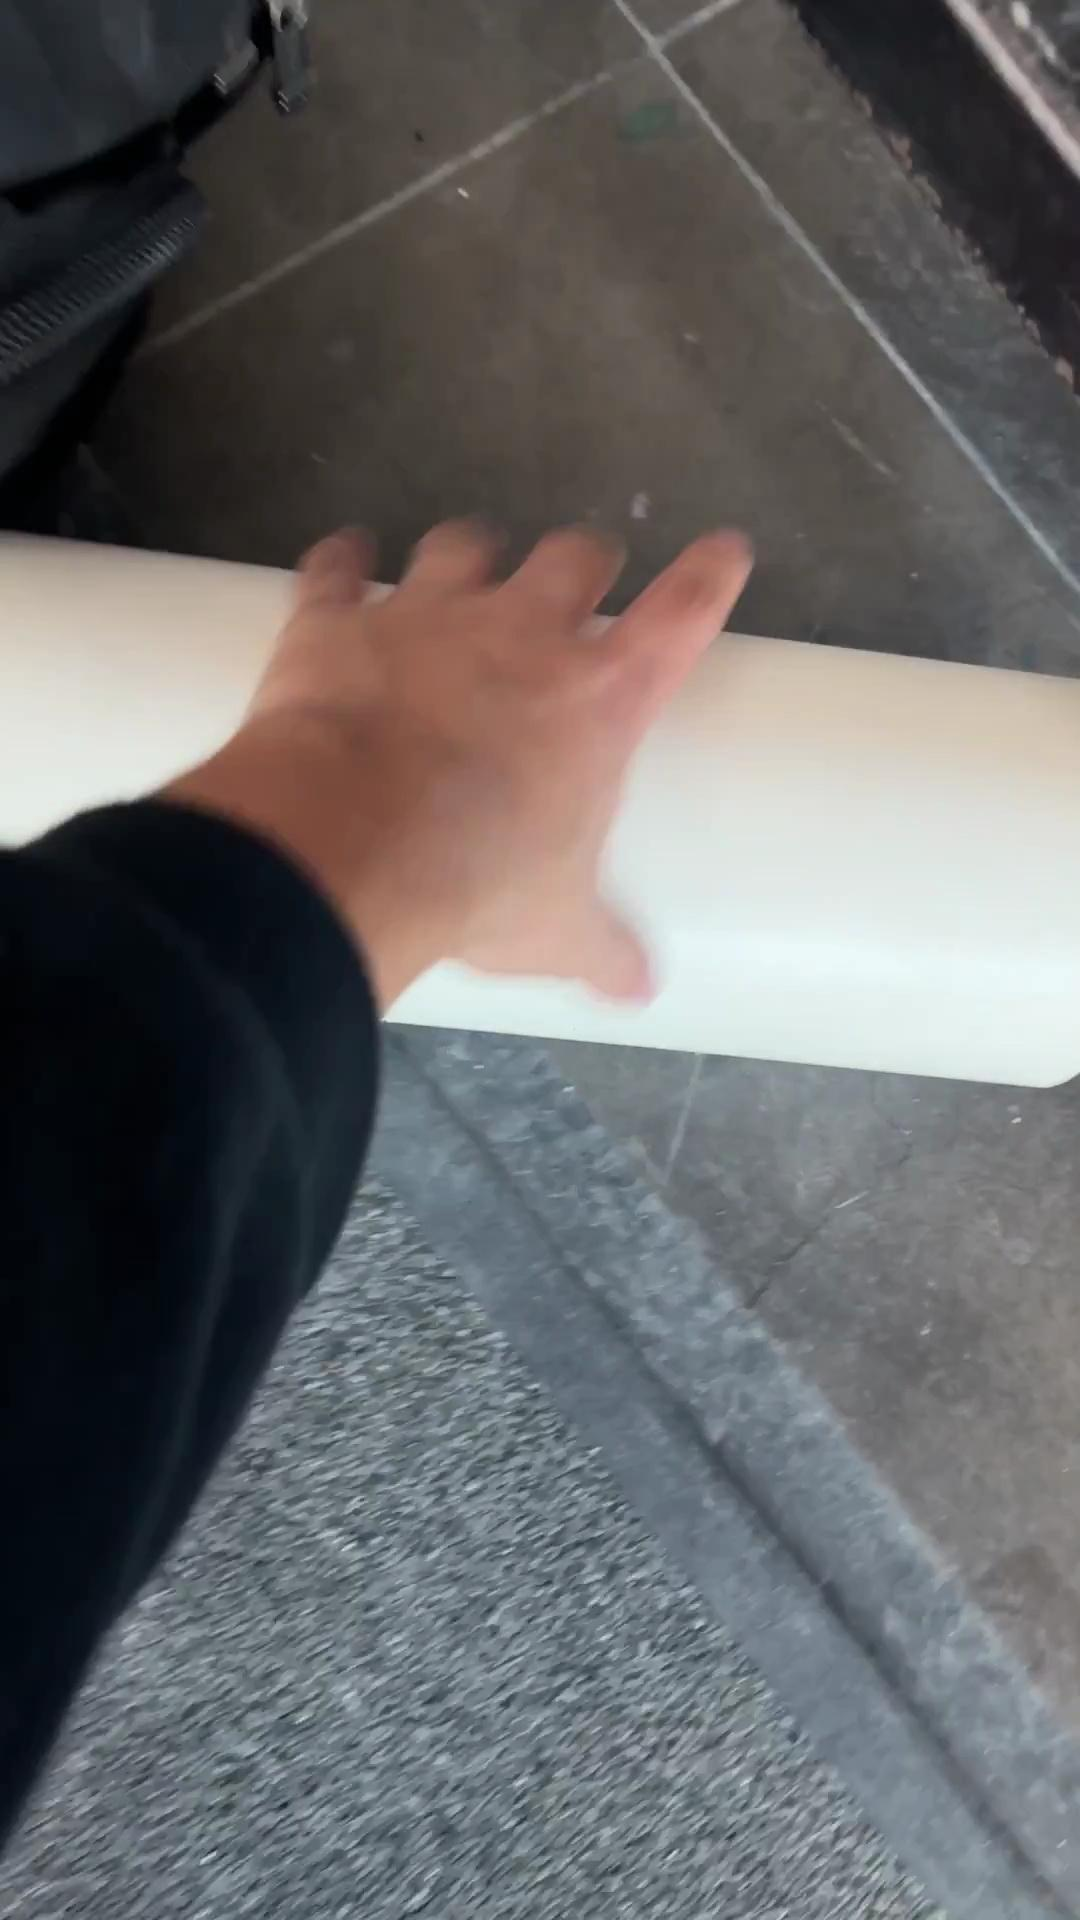CORAL: (3, 524, 1077, 1091)
